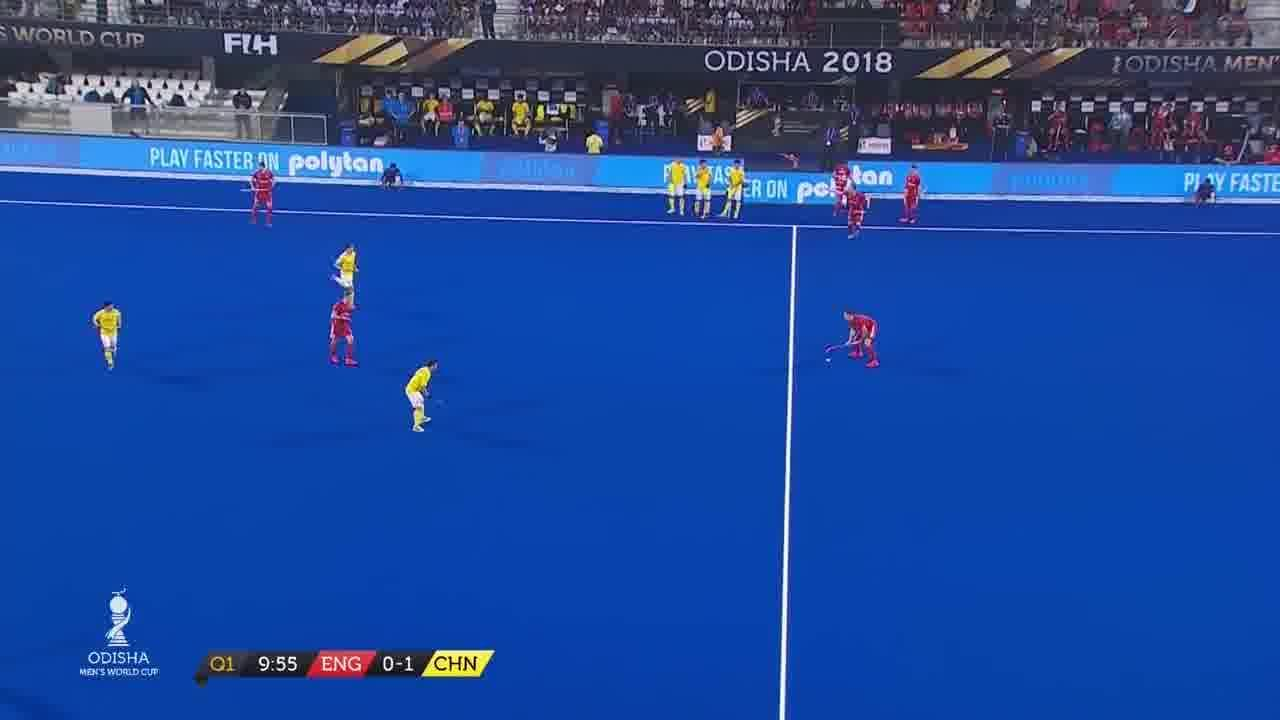ball: (824, 355, 834, 367)
